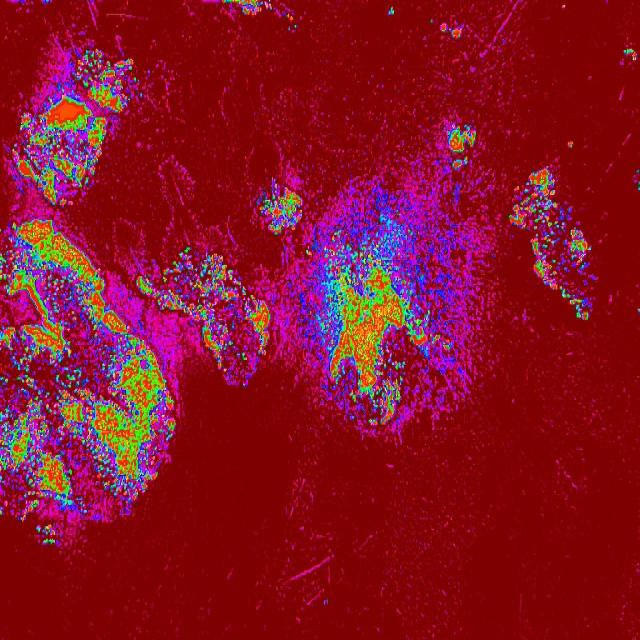fire: (0, 217, 179, 522), (307, 211, 476, 429), (12, 45, 144, 206), (506, 162, 596, 322), (178, 242, 272, 388), (254, 180, 306, 238), (442, 124, 478, 168), (32, 521, 60, 549), (223, 0, 274, 14), (436, 21, 466, 38), (284, 10, 298, 30), (622, 46, 638, 62), (566, 138, 578, 150), (386, 4, 396, 16), (322, 598, 332, 607), (41, 0, 54, 6), (636, 181, 640, 194), (634, 166, 640, 174), (636, 305, 640, 315)
